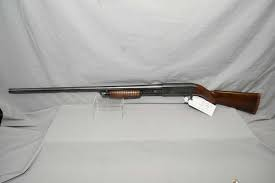Gun: (84, 72, 220, 106)
